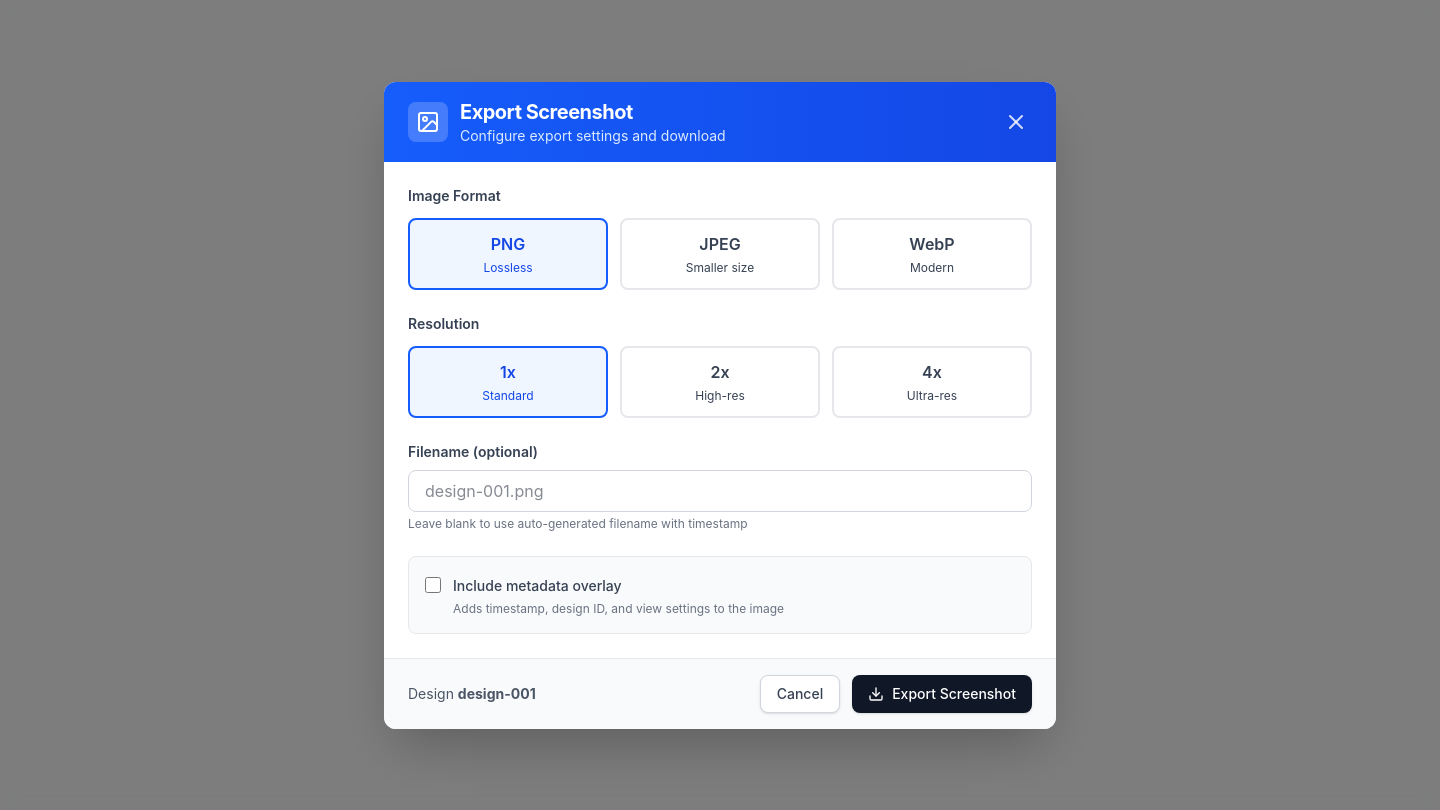
Scenario: ExportDialog - Extended Coverage › State Management - Quality Slider › should show quality slider for WebP format
Click the button "WebP Modern". click: (932, 254)
box: [832,218,1032,290]
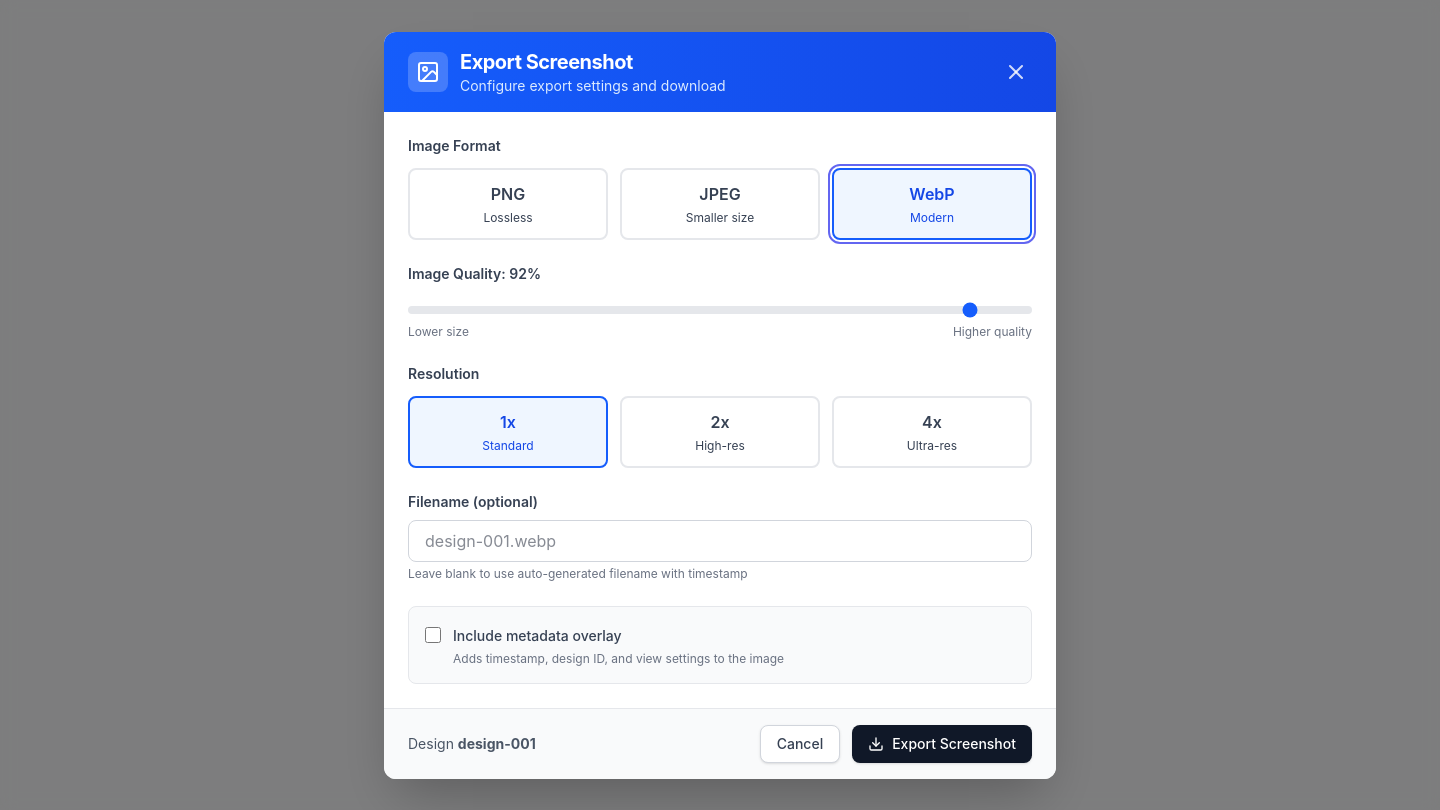
Expected: the slider is shown, [408,306,1032,314]
